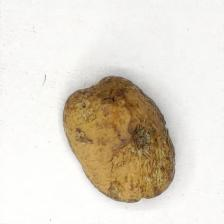NG: (80, 76, 138, 118), (121, 124, 165, 160)
